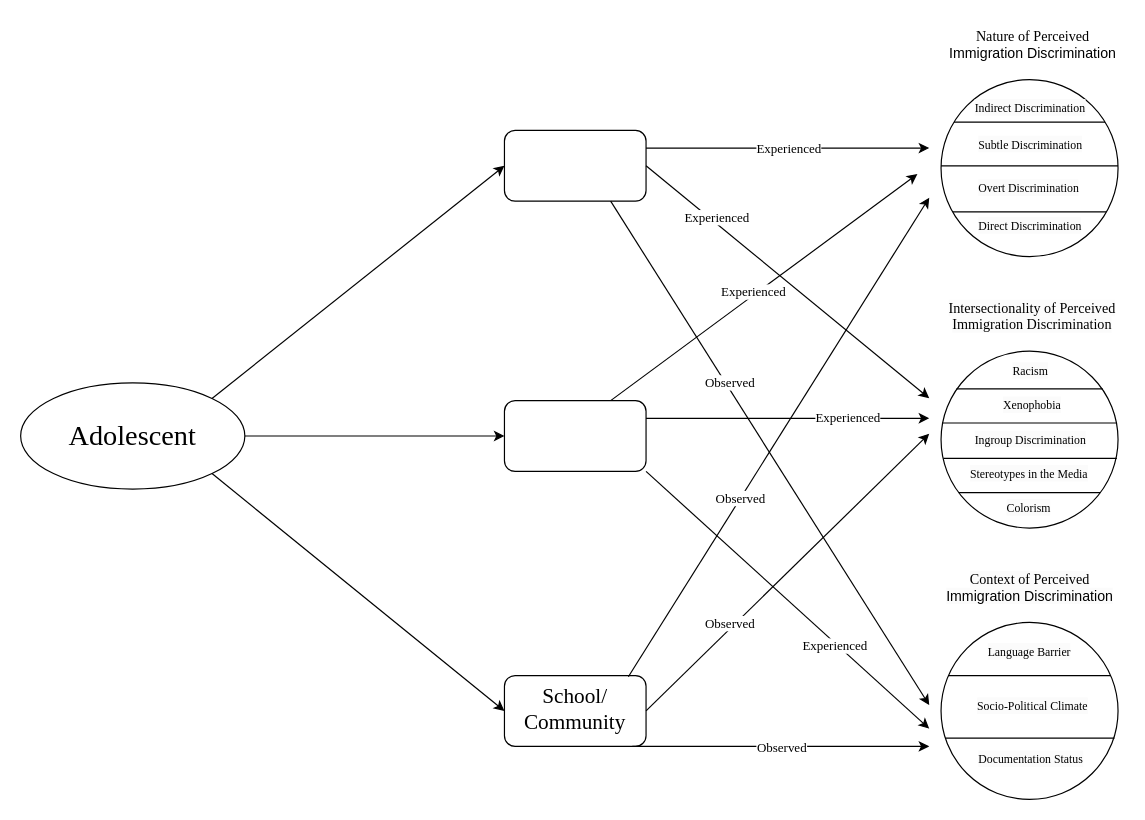
Some shapes in this 1145 by 820 pixel diagram are drawn without their labels. Here are the shapes that lost their labels. From the top down, the centre of each, then its label:
(574,165): Friends/Peers
(574,435): Family
